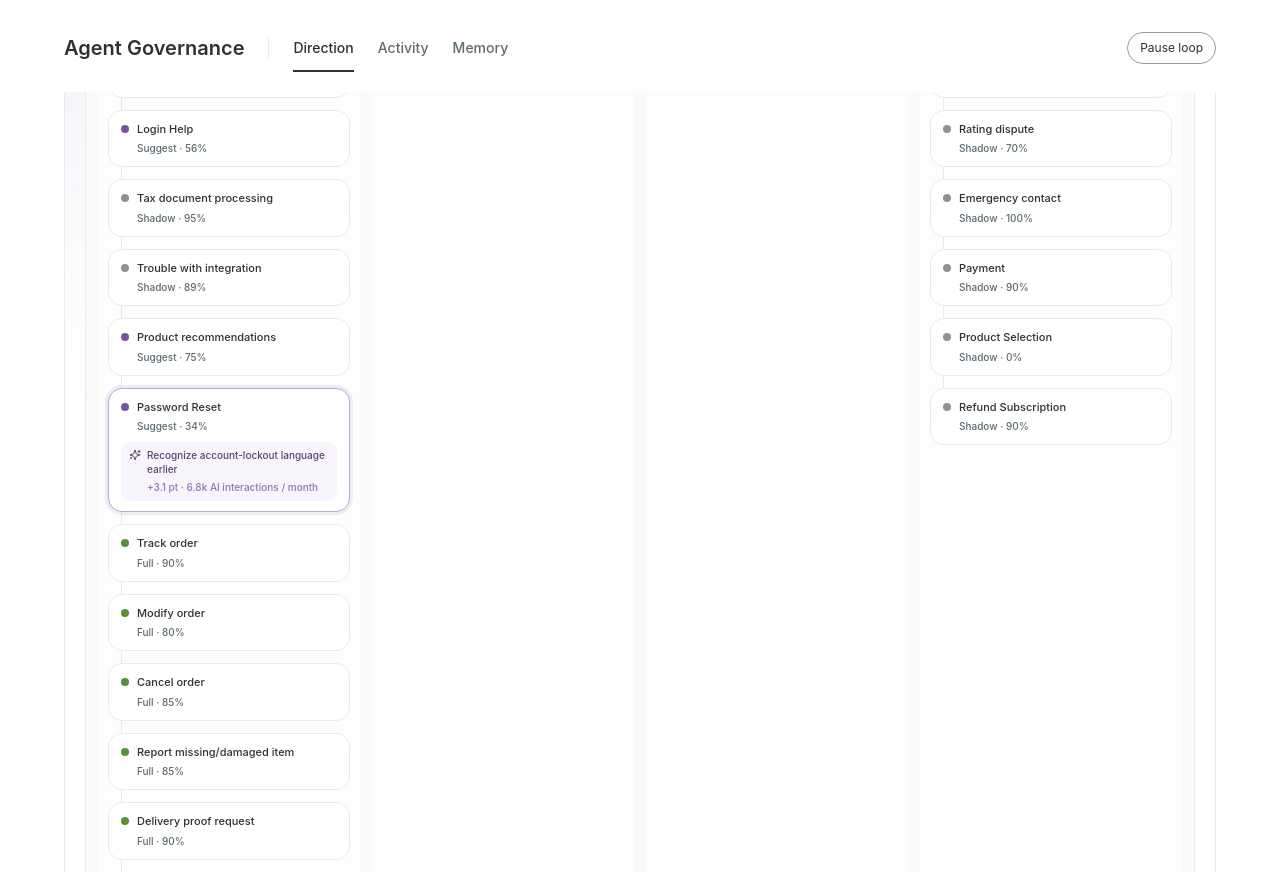
Test: PipelineScreen › opens one shared agent detail from the map and its ranked finding
(page scrolled)
Click the button with test id "agent-map-node-w8" at (229, 450), box 108,388 -> 350,512
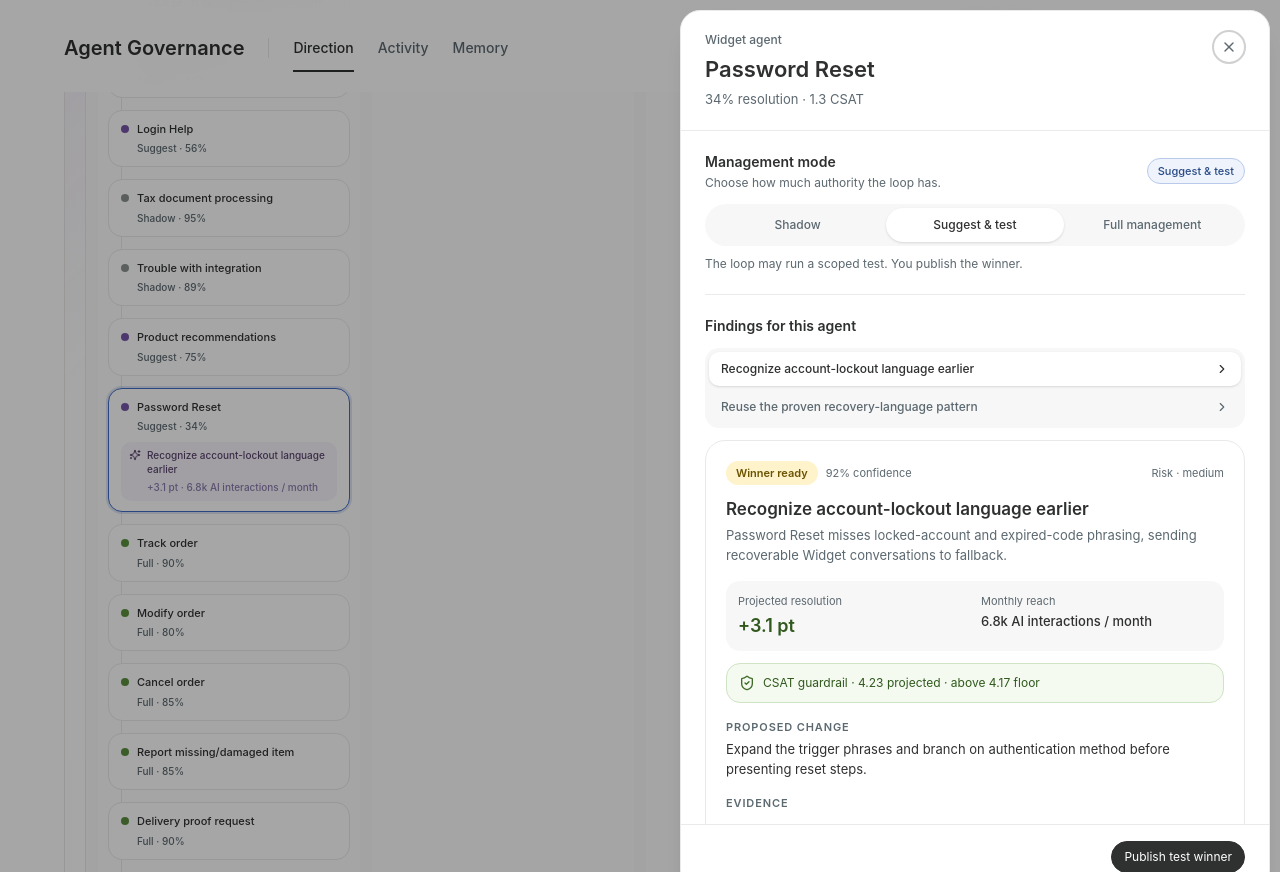
expect the heading "Password Reset" is shown: met, box 705,56 -> 875,82
expect the heading "Recognize account-lockout language earlier" is shown: met, box 726,499 -> 1089,519
expect the text "+3.1 pt" is shown: met, box 738,614 -> 795,636
